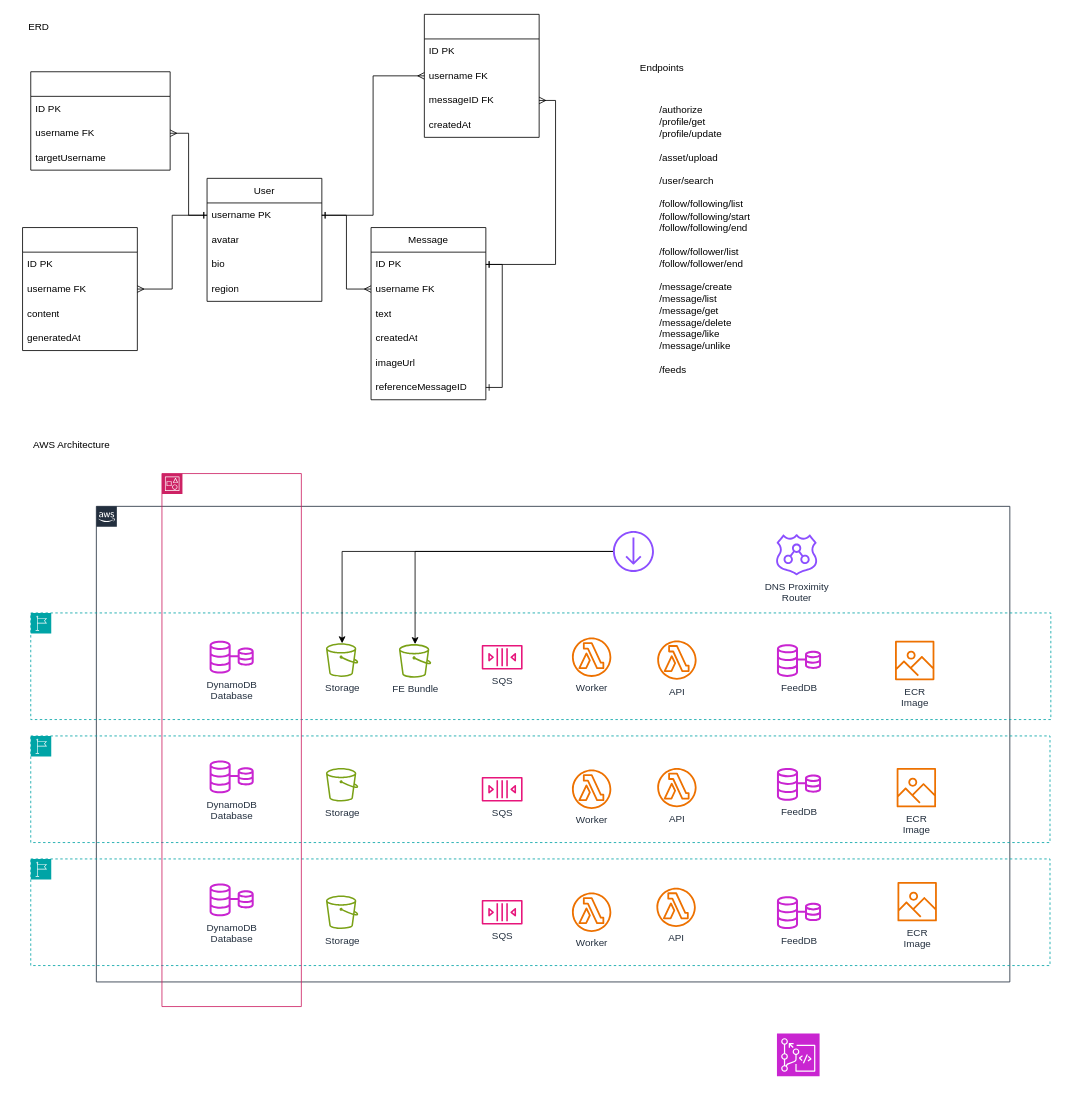
The diagram is 1065 pixels wide and 1108 high, and some of its shapes have lost their labels. The shapes that lost their labels are listed below. From the top down, each one's box as (x1, y1, x2, y2) in pixels, then its label:
(424, 14, 539, 137): Message Likes
(30, 71, 170, 170): User Following/Follower
(22, 227, 137, 351): User Feed
(613, 531, 654, 572): CFN CDN
(30, 612, 1051, 720): ap-southeast-1
(161, 473, 301, 1007): Multi Region Replication
(96, 506, 1010, 982): AWS Cloud
(30, 735, 1050, 843): eu-west-2
(30, 858, 1050, 966): ap-northeast-1
(776, 1033, 820, 1076): CodeCommit
